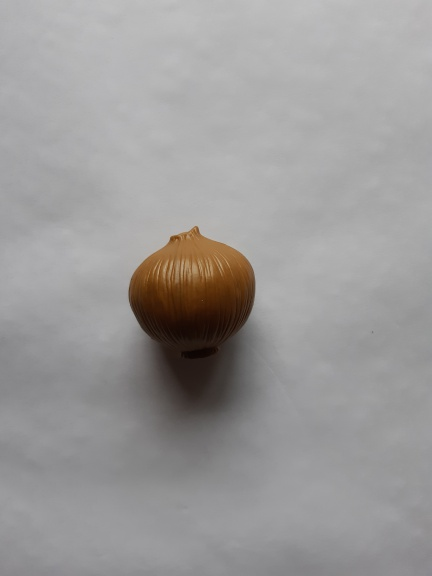onion: (119, 221, 264, 369)
